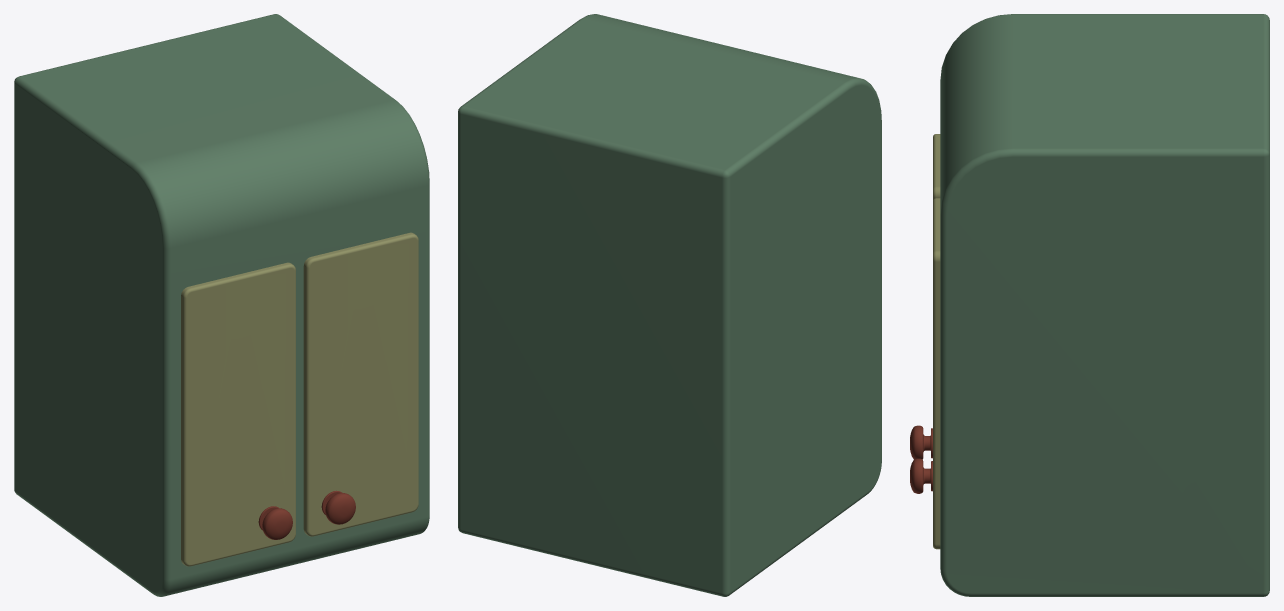
Rendered from SM_Kitchen_Cabinet_H.fbx.
3 views of the same model, side by side, from view 1: azimuth 30°, elevation 25°; view 2: azimuth 150°, elevation 25°; view 3: azimuth 270°, elevation 25° (orthographic). The views are drawn at different scales.
Parts seen in each view (by area): view 1: Cube.042, Cube.043, Cube.044, SM_Shelf_Dresser_A_Drawer_01.003; view 2: Cube.042; view 3: Cube.042, Cube.043, SM_Shelf_Dresser_A_Drawer_01.003, Cube.044.
Boxes of the visible parts, <box> form: Cube.042: <box>14,14,429,596</box>; Cube.043: <box>303,232,418,536</box>; Cube.044: <box>181,262,295,566</box>; SM_Shelf_Dresser_A_Drawer_01.003: <box>258,490,355,539</box>; Cube.042: <box>458,14,881,596</box>; Cube.042: <box>940,14,1269,596</box>; Cube.043: <box>933,198,940,549</box>; SM_Shelf_Dresser_A_Drawer_01.003: <box>910,425,932,493</box>; Cube.044: <box>933,134,940,200</box>.
Bounding box in the file's own units: 100 × 150 × 109.
